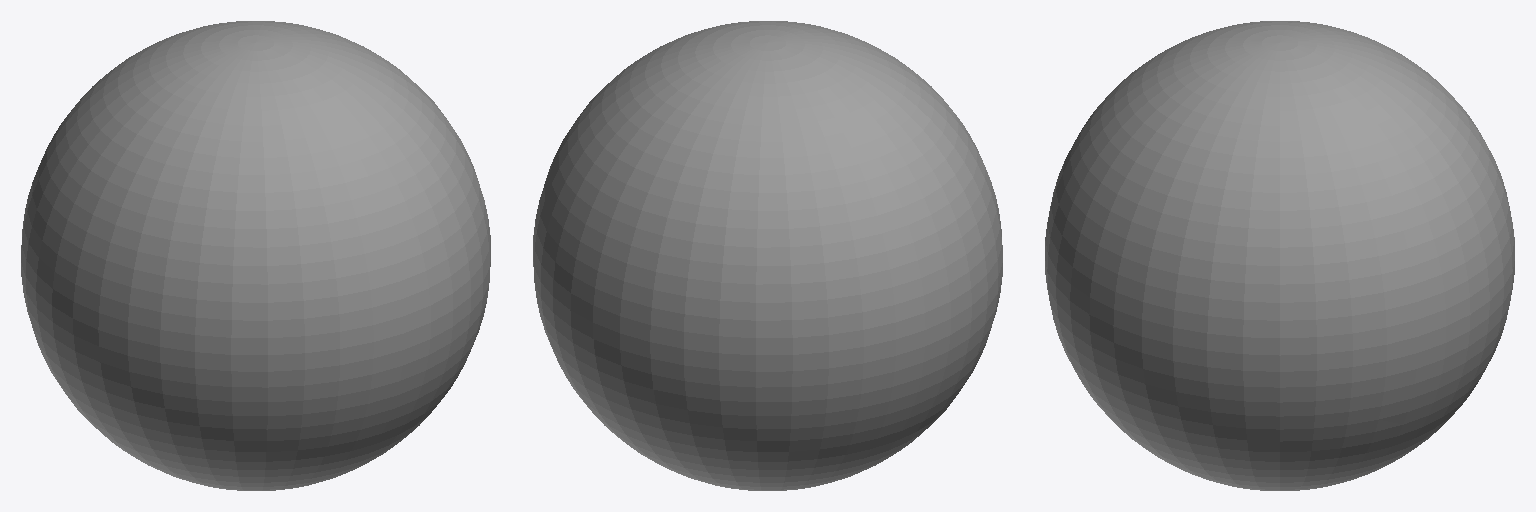
File: space002.obj
3 views of the same model, side by side, from view 1: azimuth 30°, elevation 25°; view 2: azimuth 150°, elevation 25°; view 3: azimuth 270°, elevation 25° (orthographic).
Parts seen in each view (by area): view 1: Sphere; view 2: Sphere; view 3: Sphere.
Part boxes in pixels (x1,y1,x2,y2): Sphere: (21, 21, 490, 490); Sphere: (533, 21, 1002, 490); Sphere: (1045, 21, 1514, 490).
Size of the model in its own units: 2 by 2 by 2.